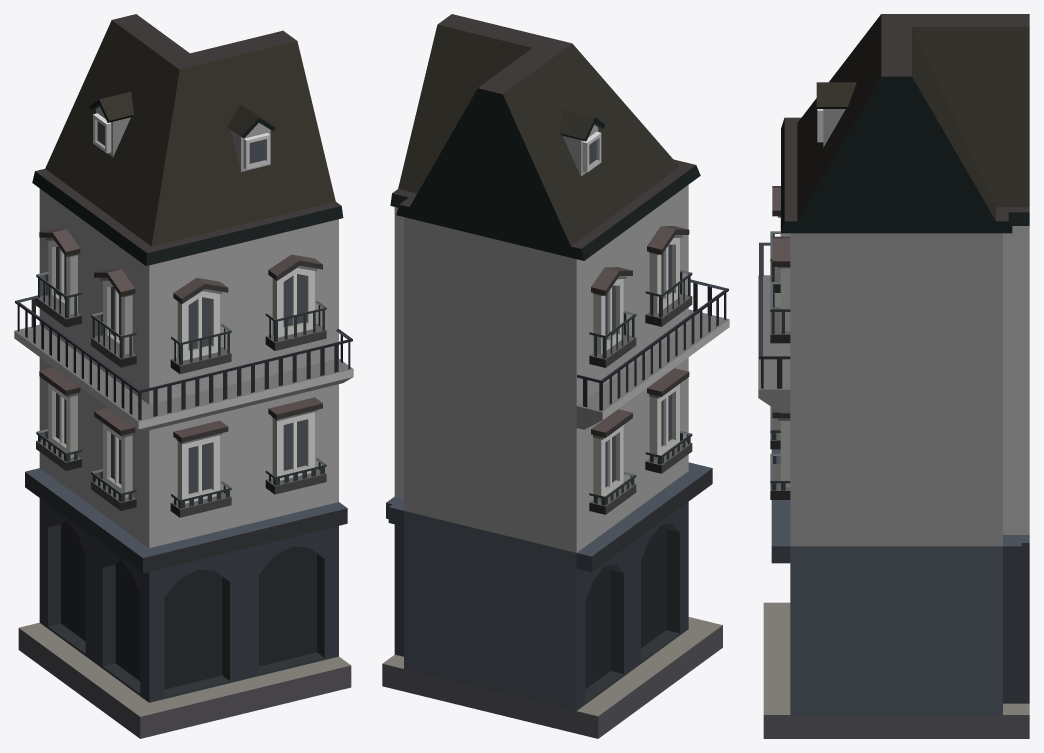
Rendered from TB_CITY_BD_N_Corner_3_D.FBX.
The picture shows the model from 3 angles, left to right: view 1: azimuth 30°, elevation 25°; view 2: azimuth 150°, elevation 25°; view 3: azimuth 270°, elevation 25°; orthographic projection. The views are drawn at different scales.
Parts seen in each view (by area): view 1: TB_CITY_BD_N_Corner_3_D; view 2: TB_CITY_BD_N_Corner_3_D; view 3: TB_CITY_BD_N_Corner_3_D.
Part boxes in pixels (box(x1,y1,x2,y2)): TB_CITY_BD_N_Corner_3_D: box(14, 14, 353, 738); TB_CITY_BD_N_Corner_3_D: box(382, 14, 729, 738); TB_CITY_BD_N_Corner_3_D: box(758, 14, 1029, 738).
Bounding box in the file's own units: 8.15 × 21.97 × 8.15.
